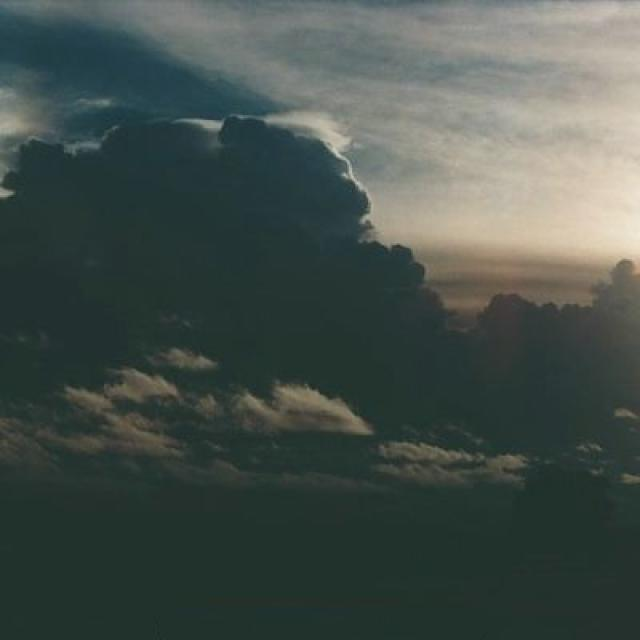St: (1, 69, 640, 580)
